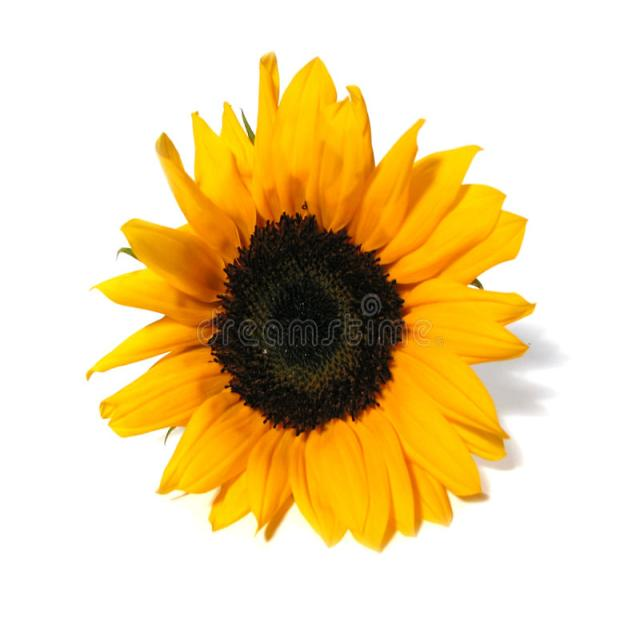sunflower: (69, 39, 548, 560)
